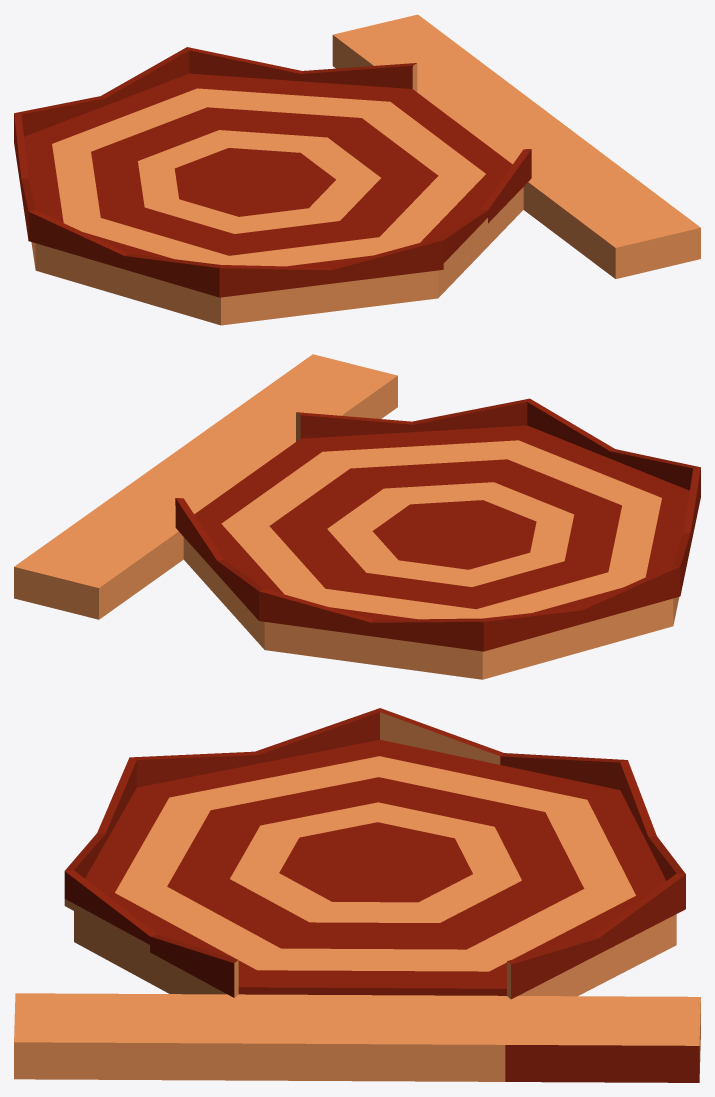
Rendered from Stage 1.fbx.
3 views of the same model, one above another, from view 1: azimuth 30°, elevation 25°; view 2: azimuth 150°, elevation 25°; view 3: azimuth 270°, elevation 25° (orthographic). The views are drawn at different scales.
Visible parts, largest first — view 1: Stage; view 2: Stage; view 3: Stage.
Part boxes in pixels (x1,y1,x2,y2): Stage: (14, 14, 700, 325); Stage: (14, 354, 700, 679); Stage: (14, 708, 700, 1082).
Bounding box in the file's own units: 13.23 × 12.67 × 1.46.
